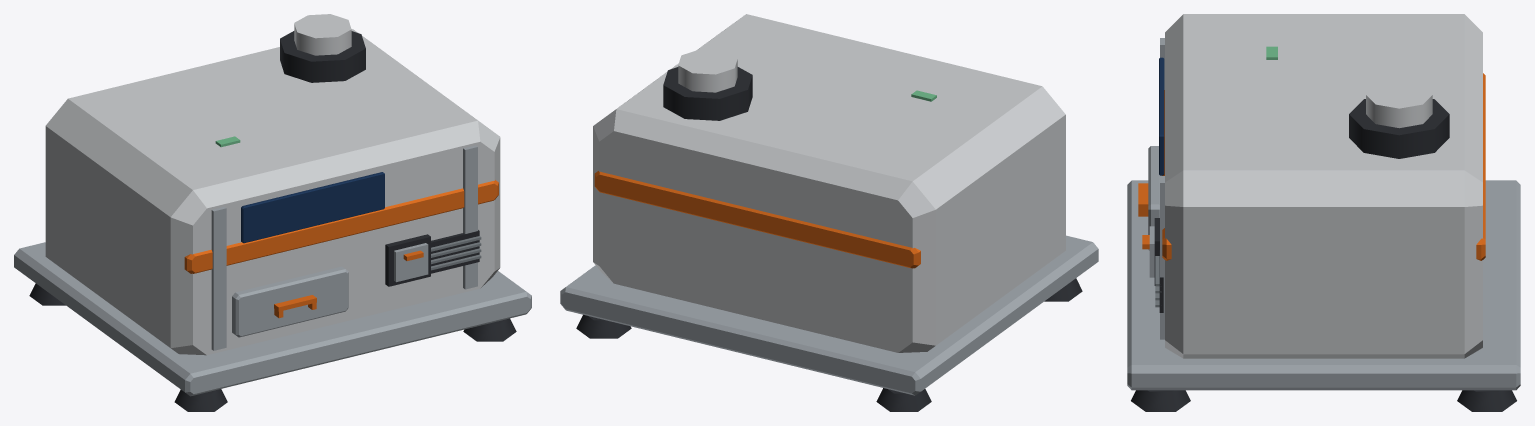
File: lab.glb
3 views of the same model, side by side, from view 1: azimuth 30°, elevation 25°; view 2: azimuth 150°, elevation 25°; view 3: azimuth 270°, elevation 25° (orthographic). The views are drawn at different scales.
Visible parts, largest first — view 1: static_body_mesh.002, sample_drawer_mesh, service_panel_mesh.002; view 2: static_body_mesh.002; view 3: static_body_mesh.002, sample_drawer_mesh, service_panel_mesh.002.
Part boxes in pixels (x1,y1,x2,y2): static_body_mesh.002: (14, 14, 531, 411); sample_drawer_mesh: (232, 266, 348, 337); service_panel_mesh.002: (385, 234, 430, 286); static_body_mesh.002: (560, 14, 1098, 411); static_body_mesh.002: (1127, 14, 1520, 411); sample_drawer_mesh: (1138, 146, 1161, 250); service_panel_mesh.002: (1142, 218, 1159, 285).
Bounding box in the file's own units: 2.69 × 1.8 × 2.35.
